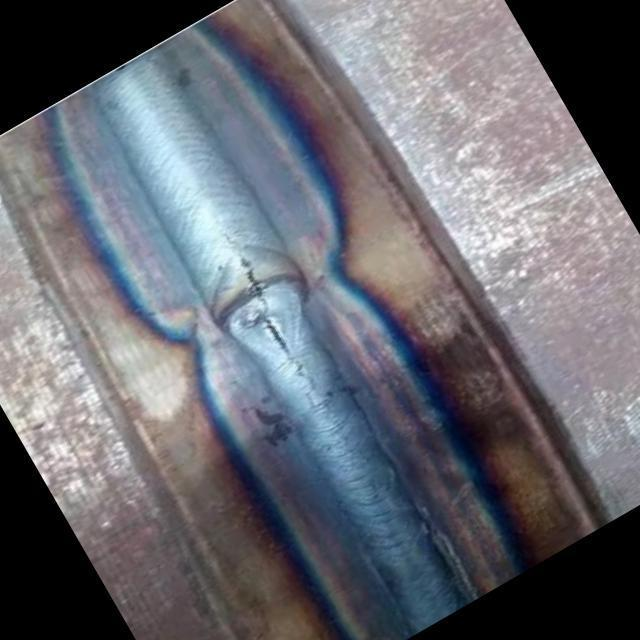defect: (233, 249, 329, 412)
